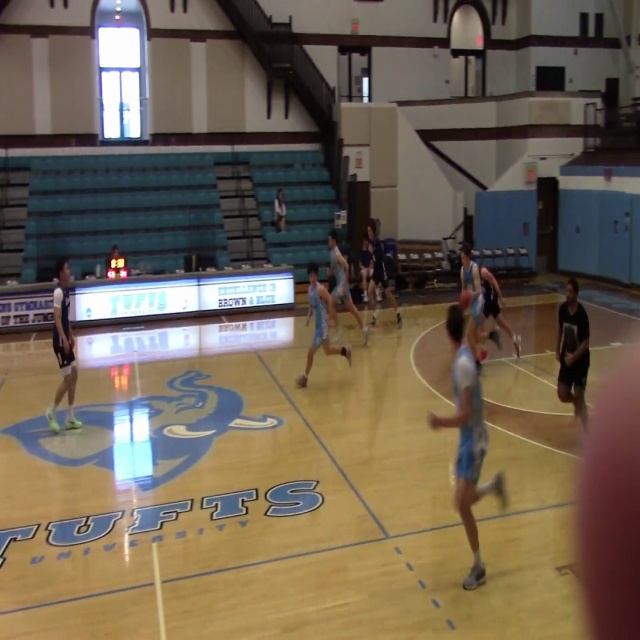Basketball: (458, 290, 472, 310), (477, 348, 488, 361)
